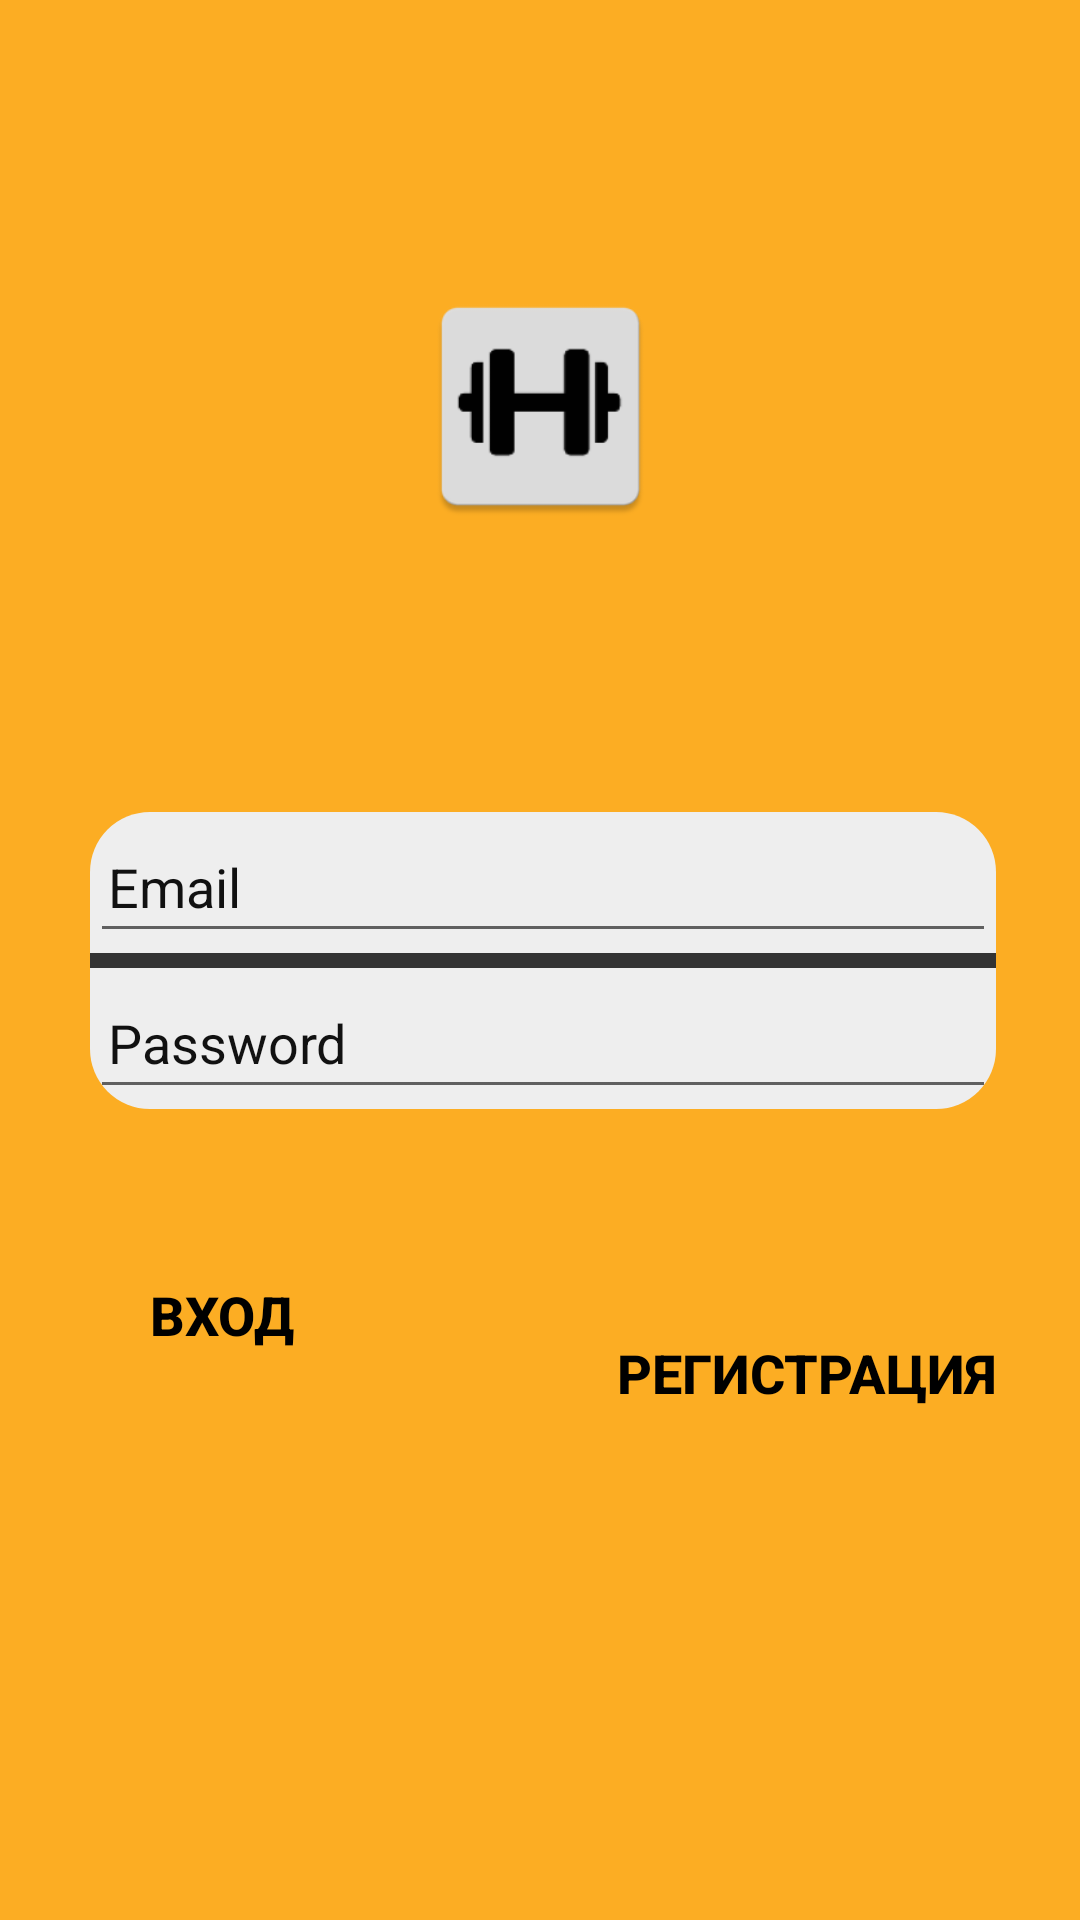

Locate icon controls on the screen. Image size 1080×1920, boxes as (x1, y1, x2, y2).
gantelya: (441, 307, 640, 511)
